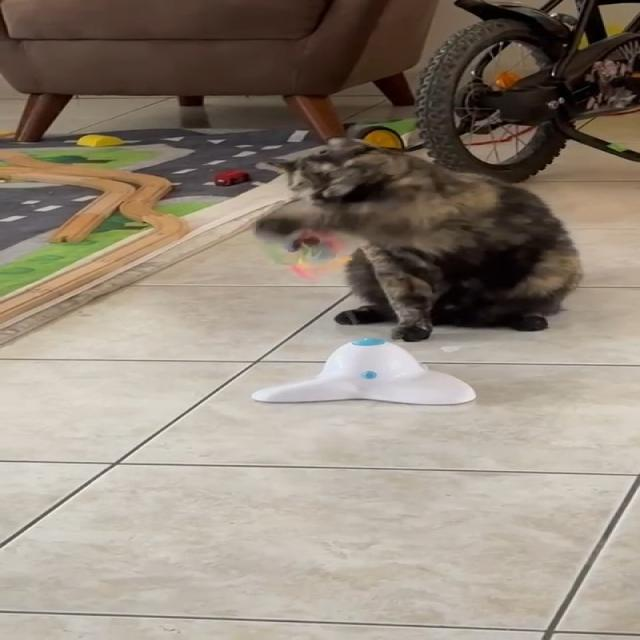authorized: (253, 136, 583, 342)
